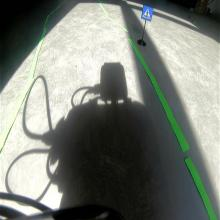crosswalk: (140, 5, 154, 22)
